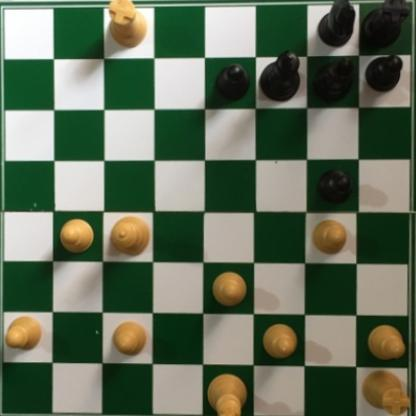black-bishop: (308, 53, 354, 102)
black-king: (257, 49, 301, 104)
black-knight: (317, 0, 358, 51)
black-pawn: (364, 53, 403, 93), (213, 61, 250, 101), (317, 168, 353, 204)
black-rook: (357, 0, 412, 50)
white-king: (205, 369, 248, 416)
white-pawn: (4, 311, 44, 351), (260, 322, 300, 362), (364, 325, 406, 361), (210, 270, 248, 307), (311, 218, 349, 255), (58, 218, 96, 254), (110, 320, 148, 356)
white-queen: (109, 212, 153, 258)
white-rook: (358, 365, 412, 416), (102, 0, 146, 50)
